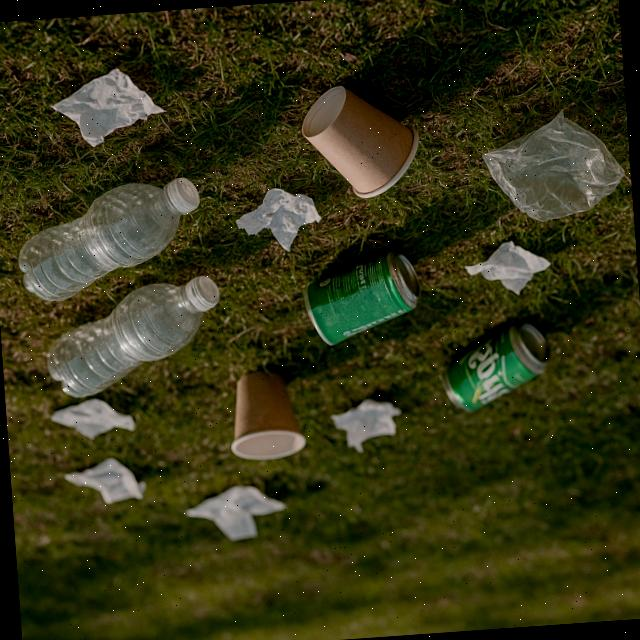aluminum: (434, 314, 560, 417), (301, 251, 424, 345)
paper: (296, 77, 428, 211), (44, 64, 168, 156), (222, 364, 304, 467), (196, 479, 287, 544), (66, 454, 140, 512)
plastic: (12, 169, 204, 310), (49, 272, 228, 398)
